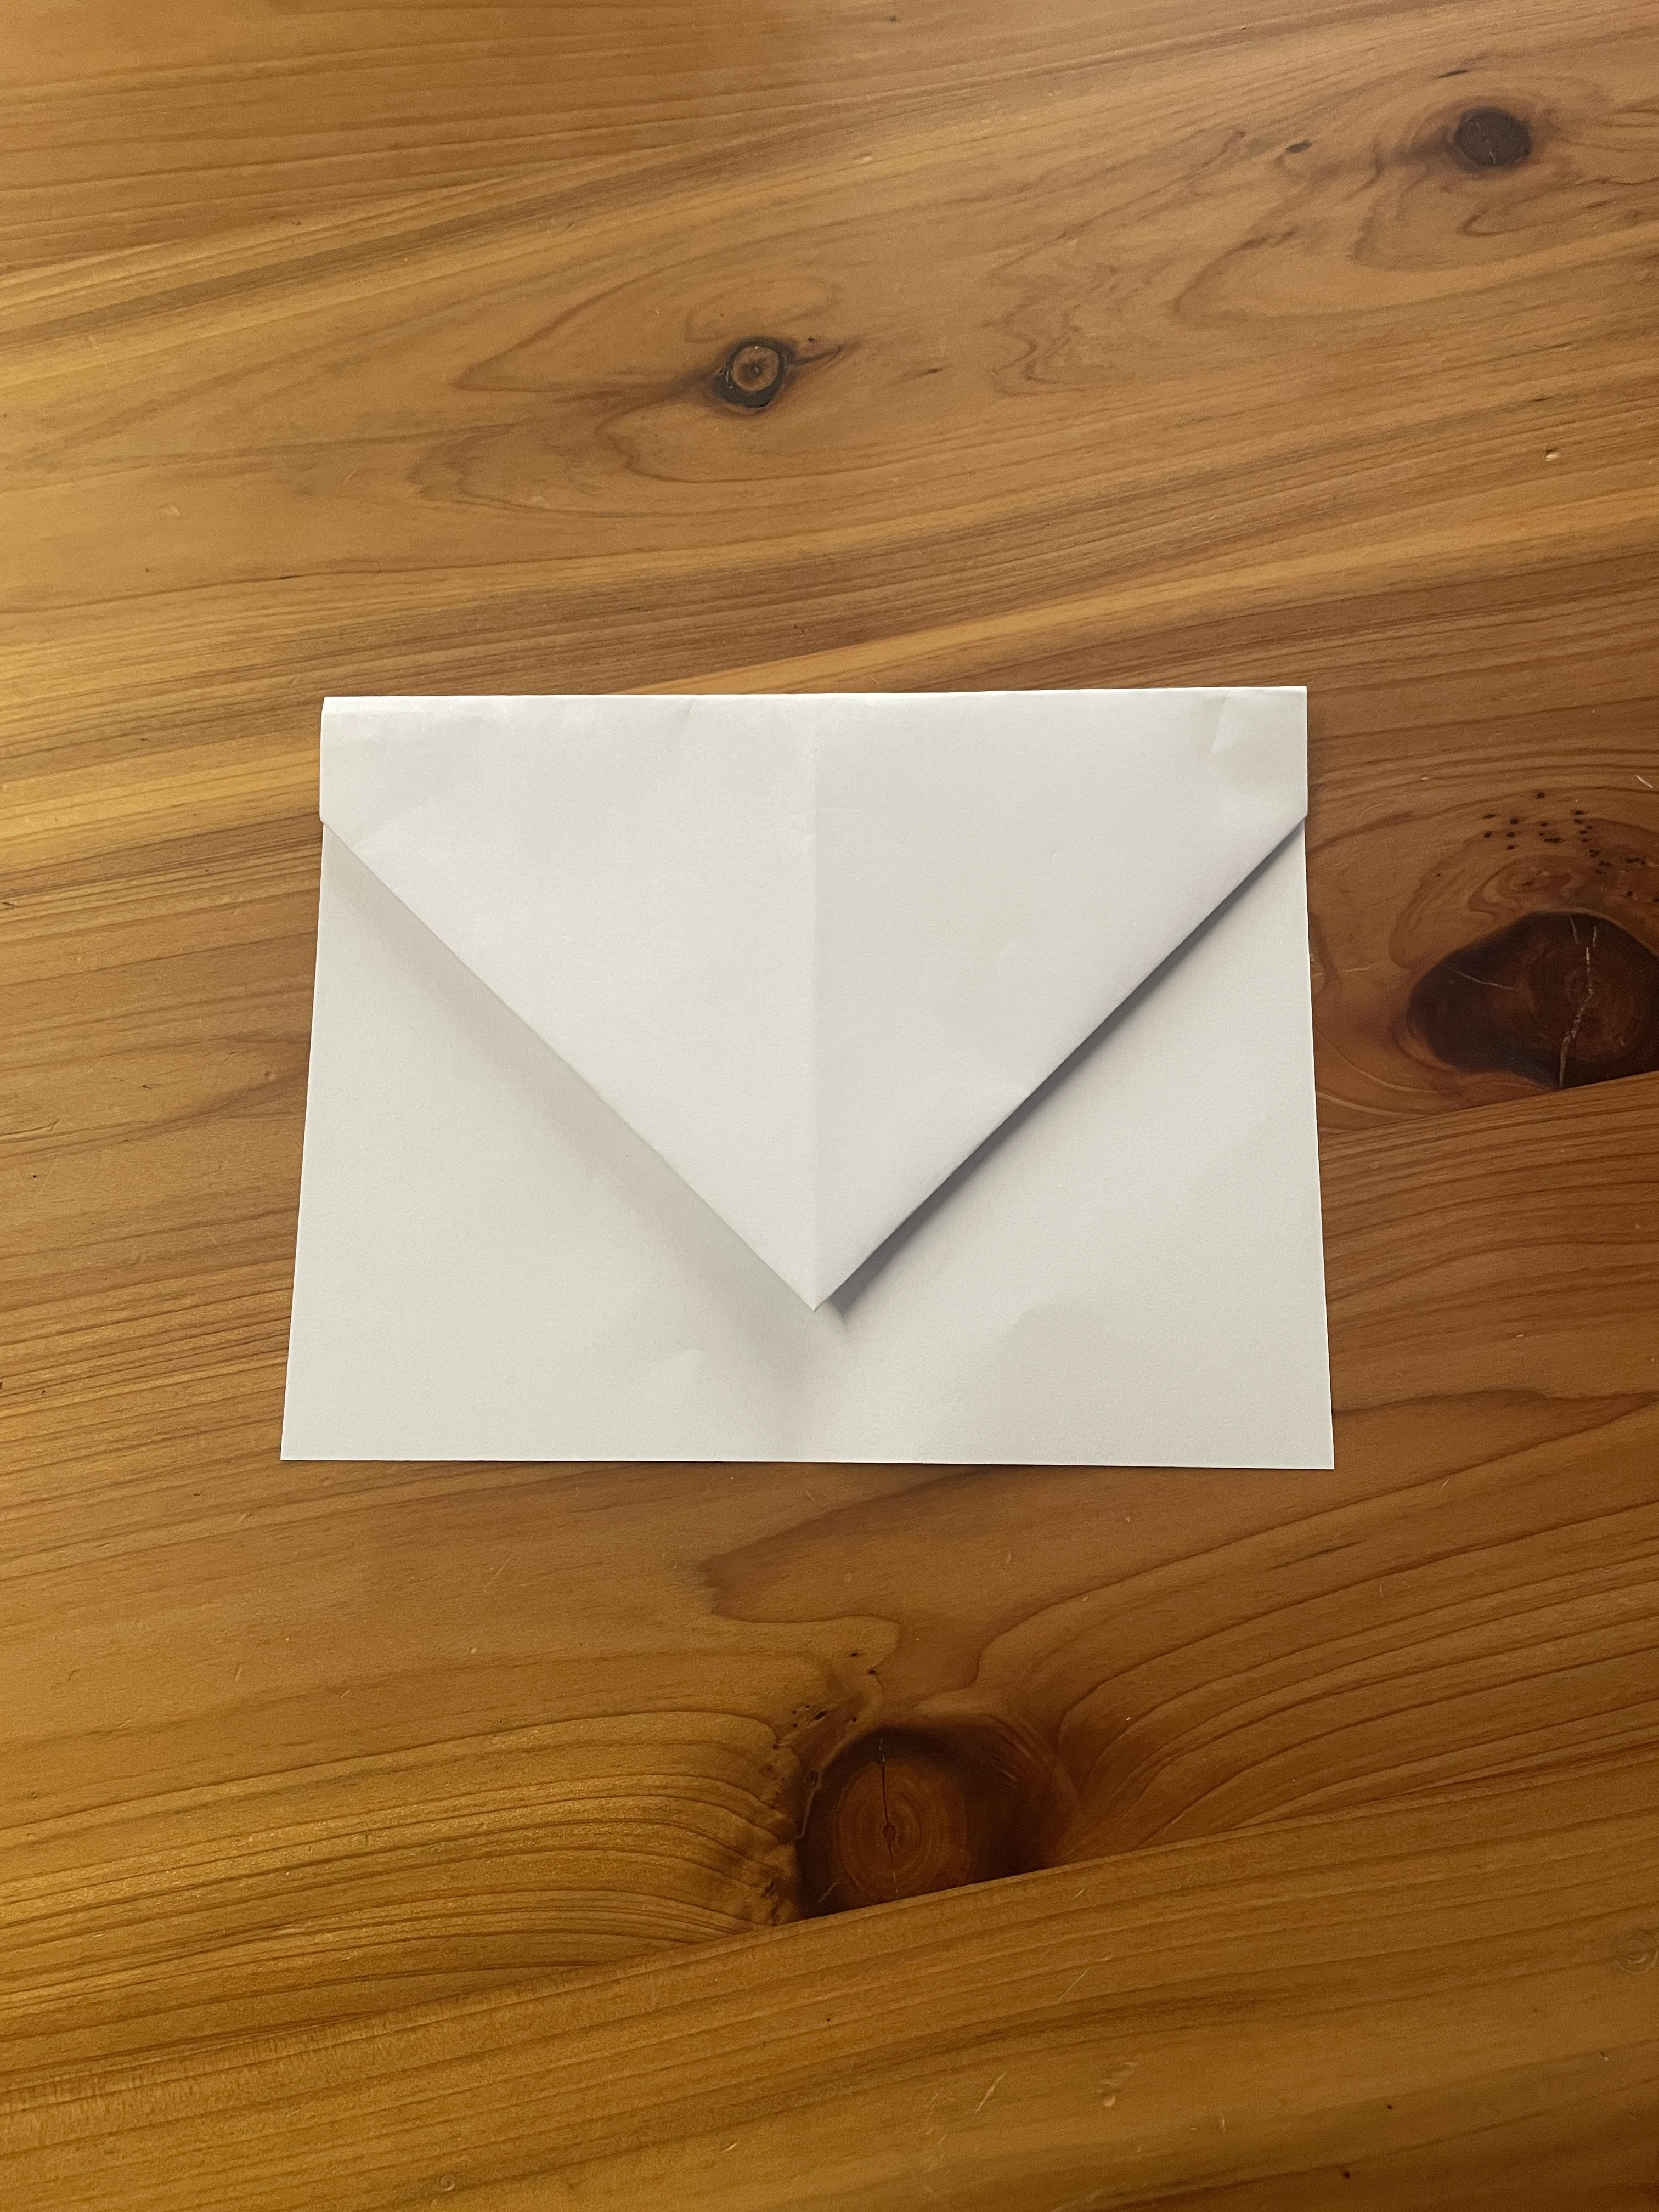shape_1: (214, 505, 1434, 1683)
